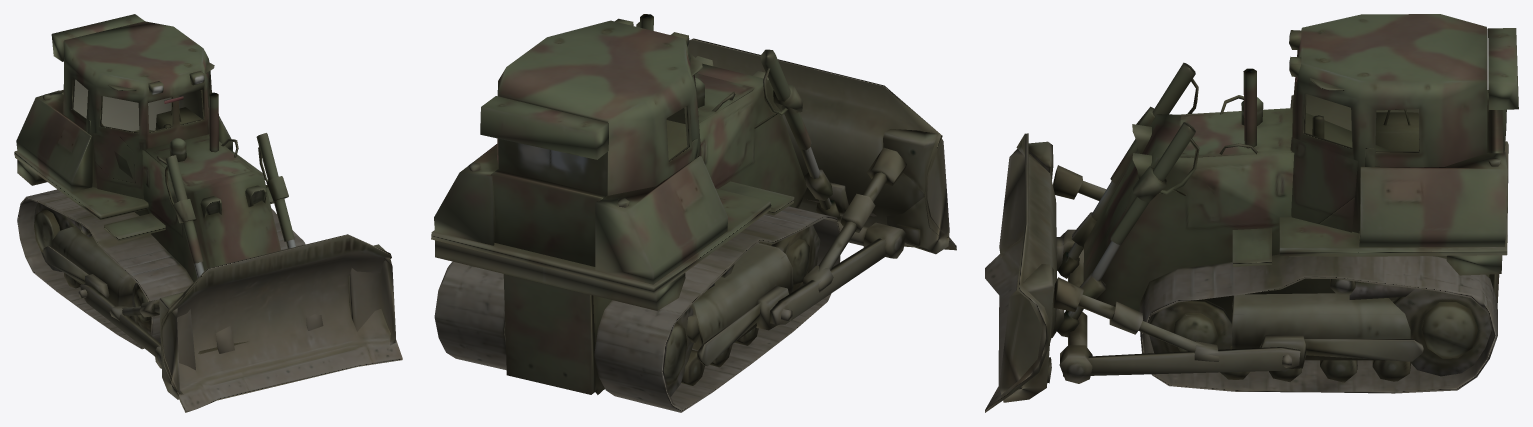
File: cn-dozer.glb
The picture shows the model from 3 angles, left to right: view 1: azimuth 30°, elevation 25°; view 2: azimuth 150°, elevation 25°; view 3: azimuth 270°, elevation 25°; orthographic projection. The views are drawn at different scales.
Parts seen in each view (by area): view 1: geometry_0; view 2: geometry_0; view 3: geometry_0.
Part boxes in pixels (x1=…): geometry_0: x1=14, y1=14, x2=402, y2=412; geometry_0: x1=431, y1=14, x2=956, y2=412; geometry_0: x1=985, y1=14, x2=1518, y2=412.
Size of the model in its own units: 0.6353 by 0.6189 by 1.
1 material, 1 textured.
